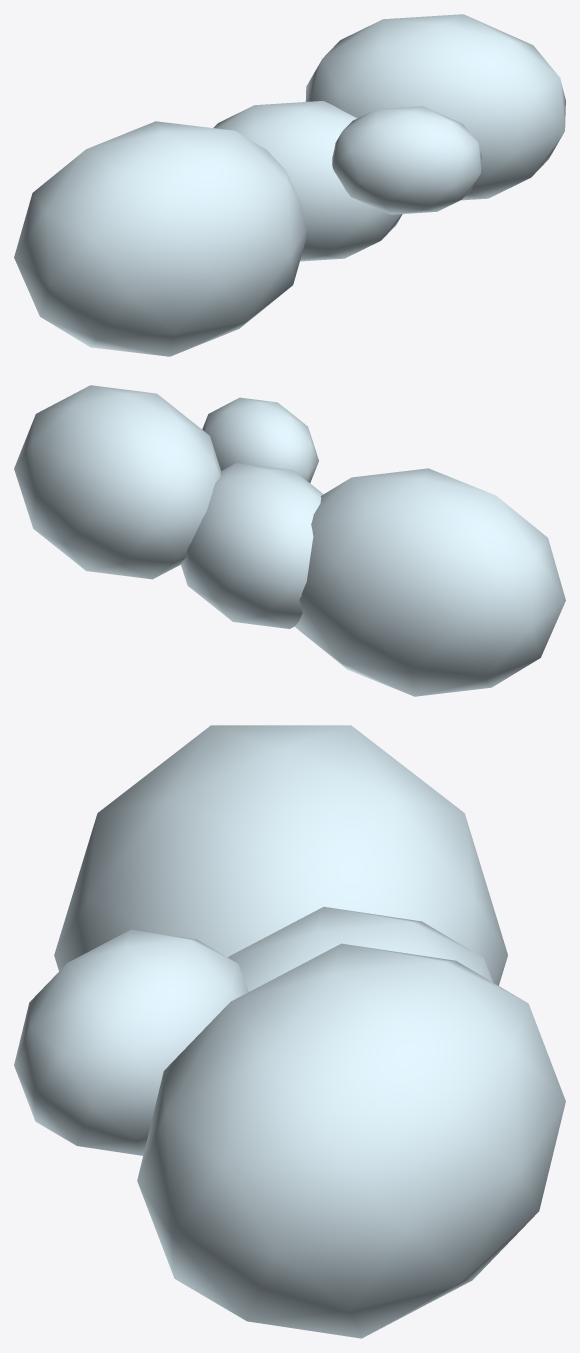
3 views of the same model, one above another, from view 1: azimuth 30°, elevation 25°; view 2: azimuth 150°, elevation 25°; view 3: azimuth 270°, elevation 25° (orthographic). The views are drawn at different scales.
Visible parts, largest first — view 1: СНЕГ1; view 2: СНЕГ1; view 3: СНЕГ1.
Boxes of the visible parts, bbox=[...] form: СНЕГ1: bbox=[14, 14, 565, 356]; СНЕГ1: bbox=[14, 385, 565, 696]; СНЕГ1: bbox=[14, 725, 565, 1338].
Bounding box in the file's own units: 522 × 224 × 243.
